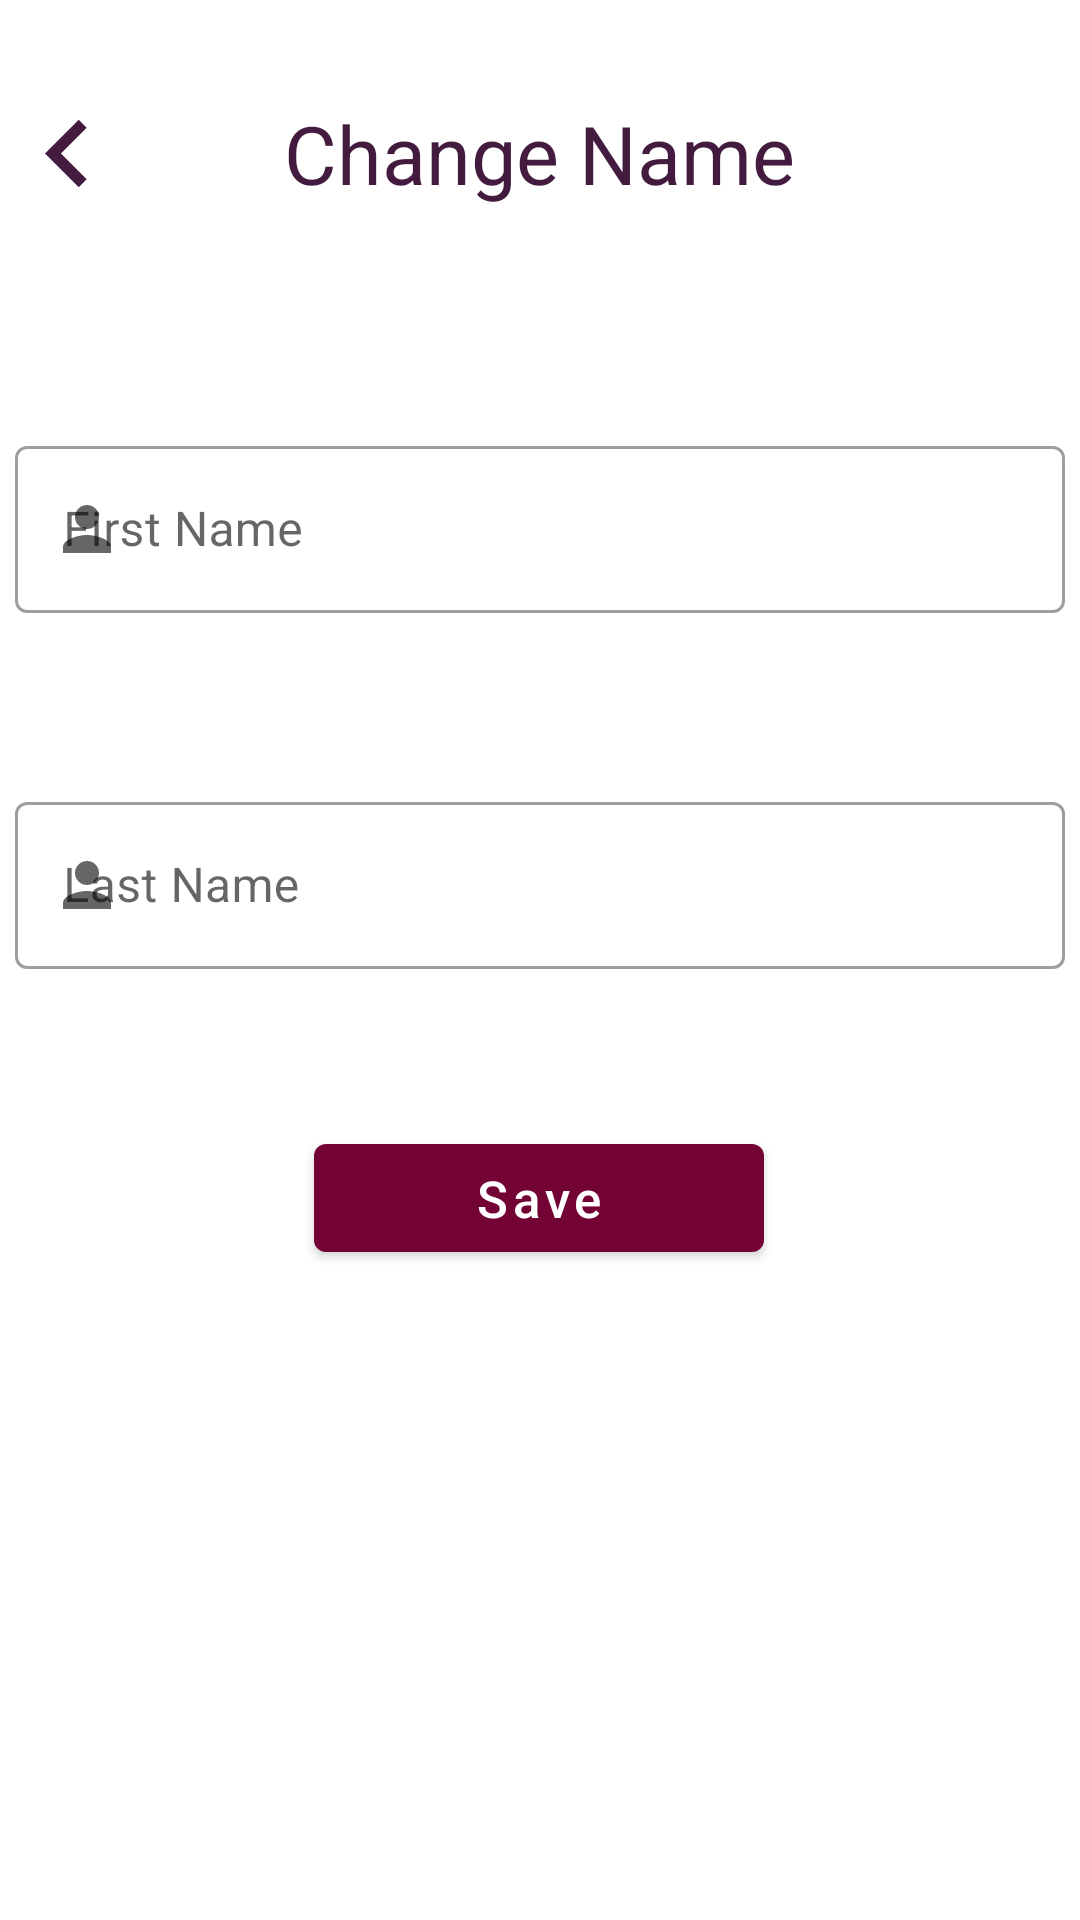

Icon click points for this 1080 x 1920 phone screenshot, format point (x, y):
chevron left: point (66, 153)
